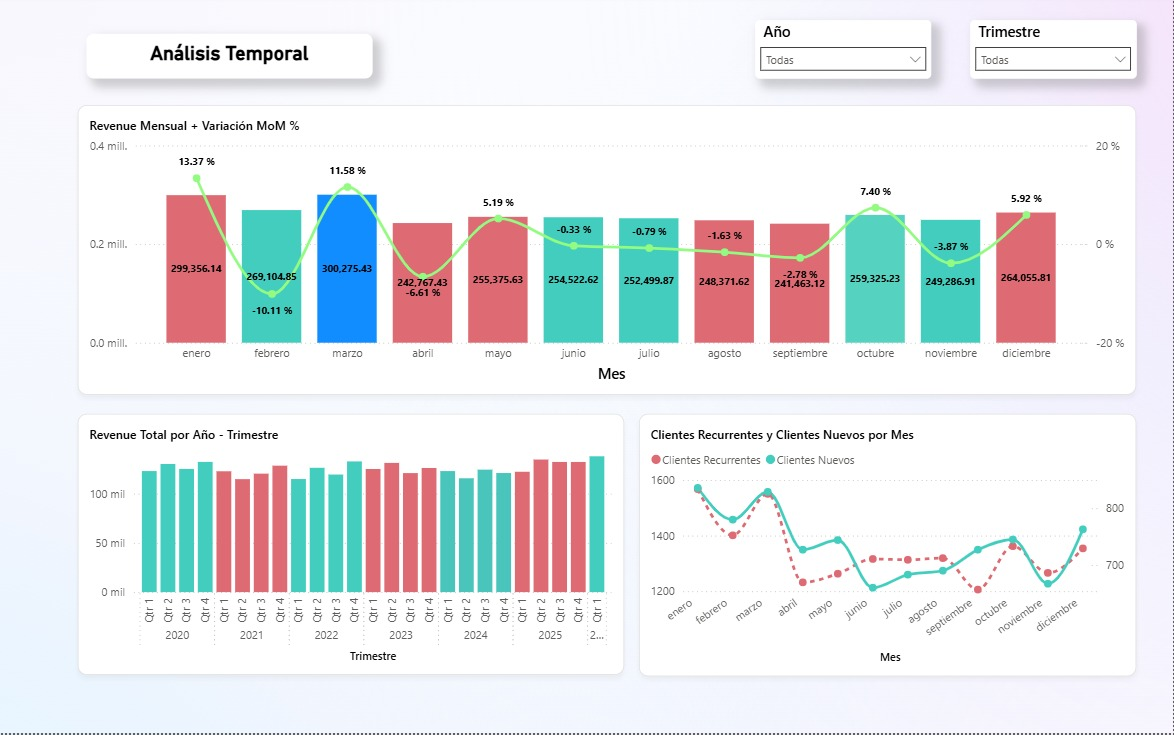

This screenshot's page, from the dashboard's own definition file:
{"tool":"powerbi","page":{"name":"Temporal","canvas":[1280,800],"ordinal":1},"visuals":[{"type":"lineStackedColumnComboChart","title":"Revenue Mensual + Variación MoM %","fields":{"Category":["dim_calendario.date.Variación.Jerarquía de fechas.Año","dim_calendario.date.Variación.Jerarquía de fechas.Mes"],"Y":["Medidas.Revenue Total"],"Y2":["Medidas.variacion MoM %"],"Series":["dim_calendario.month_name"]},"box":[85.9,114.5,1154.7,316.3],"z":0},{"type":"columnChart","title":"Revenue Total por Año - Trimestre ","fields":{"Y":["Medidas.Revenue Total"],"Category":["dim_calendario.date.Variación.Jerarquía de fechas.Año","dim_calendario.date.Variación.Jerarquía de fechas.Trimestre"],"Series":["dim_calendario.year"]},"box":[85.9,451.3,595.8,284.9],"z":1000},{"type":"lineChart","fields":{"Category":["dim_calendario.date.Variación.Jerarquía de fechas.Mes"],"Y":["Medidas.Clientes Recurrentes"],"Y2":["Medidas.Clientes Nuevos"]},"box":[698,451.3,542.6,286.3],"z":2000},{"type":"slicer","fields":{"Values":["dim_calendario.date.Variación.Jerarquía de fechas.Año"]},"box":[824.8,21.8,192.2,64.1],"z":3000},{"type":"slicer","fields":{"Values":["dim_calendario.date.Variación.Jerarquía de fechas.Trimestre"]},"box":[1059.3,21.8,181.3,64.1],"z":4000},{"type":"textbox","box":[95.4,36.8,312.2,49.1],"z":5000}]}

Visuals, with their boxes in screenshot pixels (x1, y1, x2, y2), scaled from the page's 1280x800 canvas onto the 1174x735 screenshot:
"Revenue Mensual + Variación MoM %" lineStackedColumnComboChart: box(79, 105, 1138, 396)
"Revenue Total por Año - Trimestre " columnChart: box(79, 415, 625, 676)
lineChart - dim_calendario.date.Variación.Jerarquía de fechas.Mes x Medidas.Clientes Recurrentes: box(640, 415, 1138, 678)
slicer - dim_calendario.date.Variación.Jerarquía de fechas.Año: box(756, 20, 933, 79)
slicer - dim_calendario.date.Variación.Jerarquía de fechas.Trimestre: box(972, 20, 1138, 79)
textbox: box(87, 34, 374, 79)
